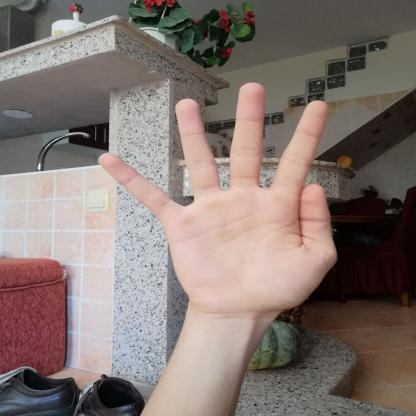SHEEN: (84, 75, 366, 326)
